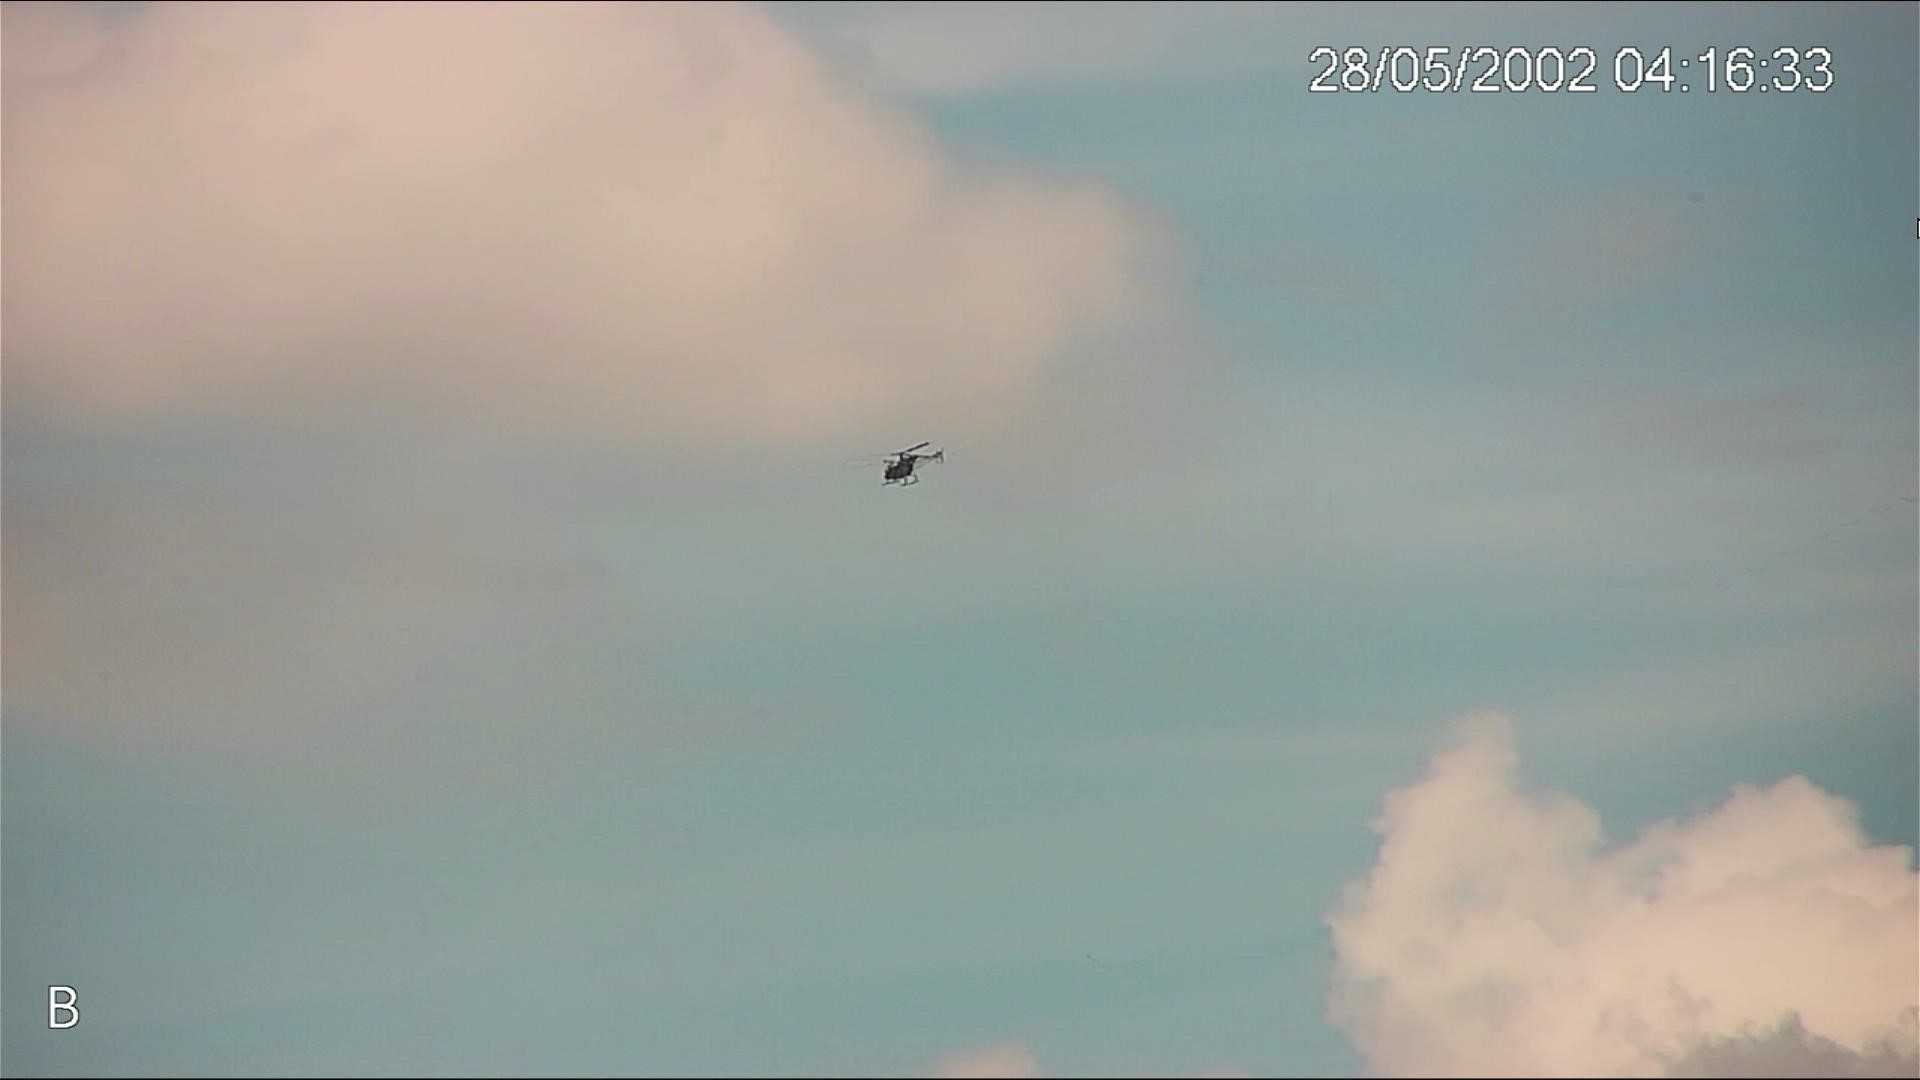SU_30: (878, 448, 947, 491)
